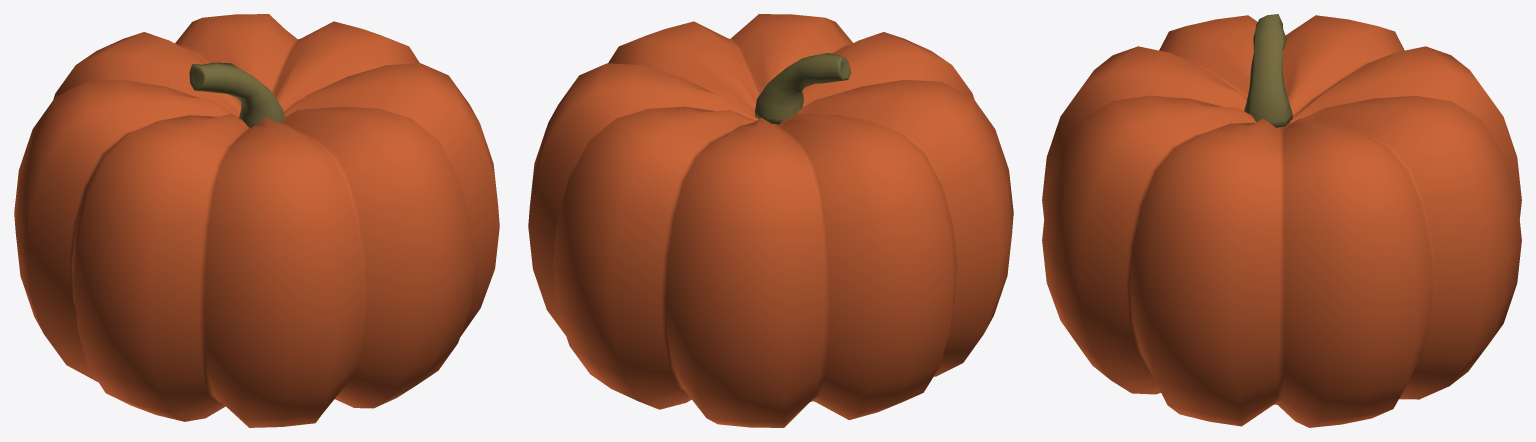
File: AboboraColeta.fbx
3 views of the same model, side by side, from view 1: azimuth 30°, elevation 25°; view 2: azimuth 150°, elevation 25°; view 3: azimuth 270°, elevation 25° (orthographic).
Visible parts, largest first — view 1: AboboraColeta; view 2: AboboraColeta; view 3: AboboraColeta.
Part boxes in pixels (bbox=[...]): AboboraColeta: bbox=[14, 14, 499, 427]; AboboraColeta: bbox=[528, 14, 1013, 427]; AboboraColeta: bbox=[1042, 14, 1521, 427].
Size of the model in its own units: 25.11 by 18.53 by 25.11.
